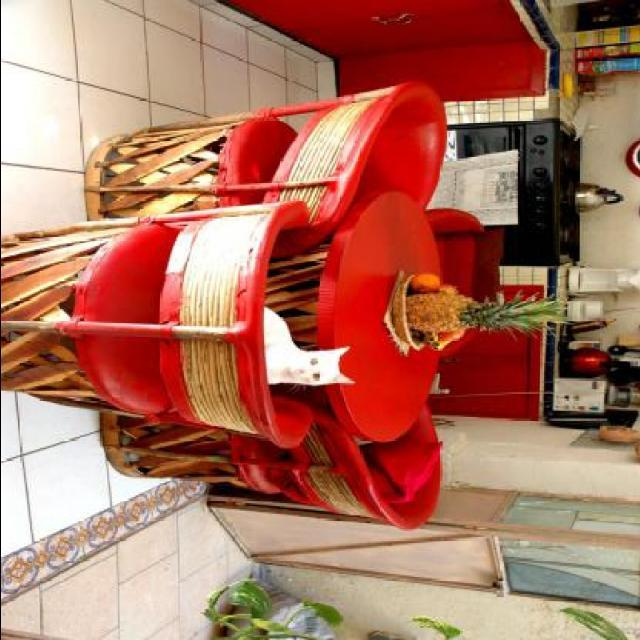Pineapple: (388, 278, 568, 342)
